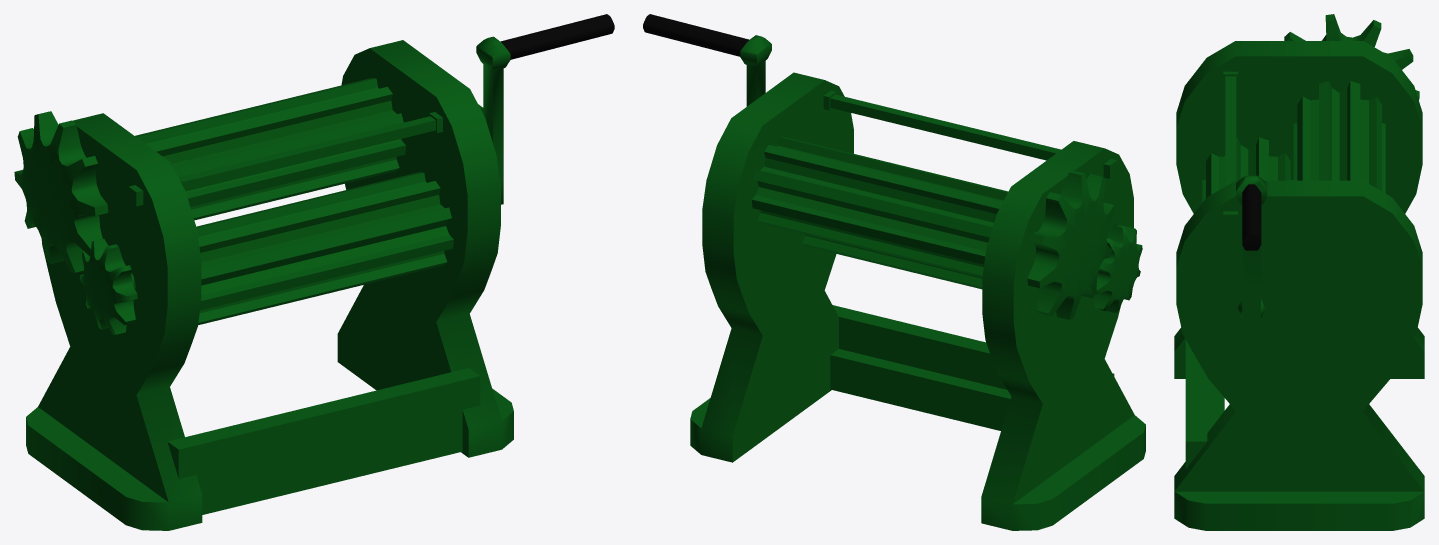
File: MoedordeCarne.fbx
3 views of the same model, side by side, from view 1: azimuth 30°, elevation 25°; view 2: azimuth 150°, elevation 25°; view 3: azimuth 270°, elevation 25° (orthographic). The views are drawn at different scales.
Parts seen in each view (by area): view 1: MoedorDeCana; view 2: MoedorDeCana; view 3: MoedorDeCana.
Boxes of the visible parts, x1=… form: MoedorDeCana: x1=14, y1=14, x2=614, y2=530; MoedorDeCana: x1=643, y1=14, x2=1145, y2=530; MoedorDeCana: x1=1174, y1=14, x2=1424, y2=530.
Size of the model in its own units: 35.49 by 24.65 by 15.66.
Materials: 1 (1 with a texture image).
